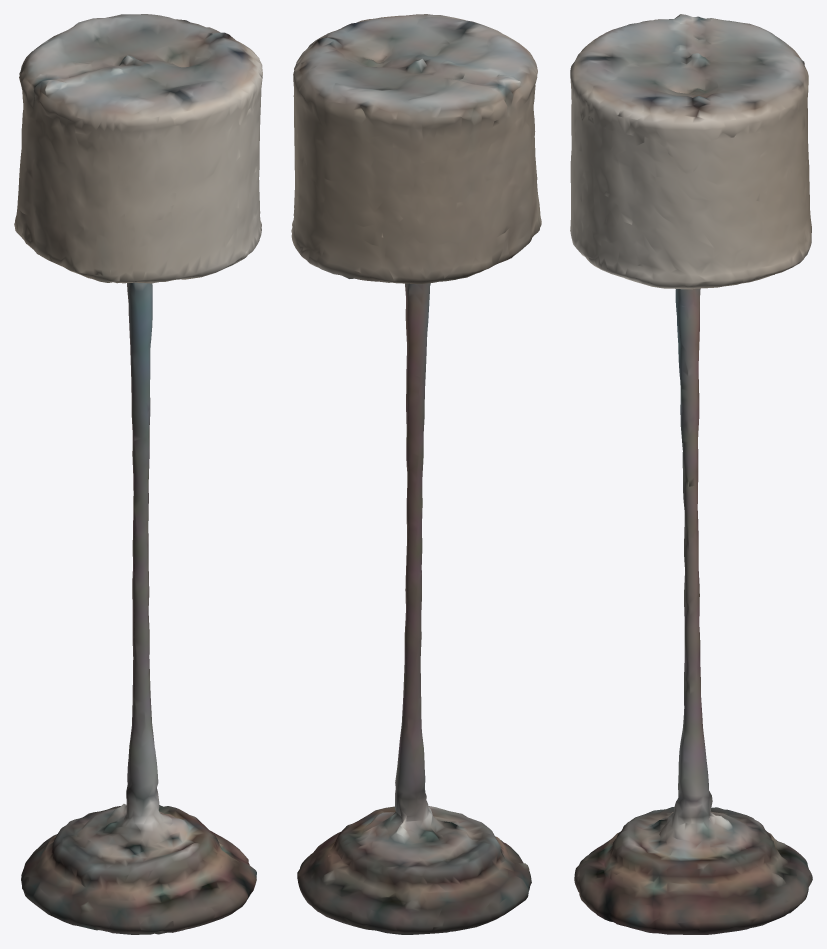
The picture shows the model from 3 angles, left to right: view 1: azimuth 30°, elevation 25°; view 2: azimuth 150°, elevation 25°; view 3: azimuth 270°, elevation 25°; orthographic projection.
Parts seen in each view (by area): view 1: geometry_0; view 2: geometry_0; view 3: geometry_0.
Part boxes in pixels (bbox=[...]): geometry_0: bbox=[14, 14, 262, 934]; geometry_0: bbox=[291, 14, 541, 934]; geometry_0: bbox=[570, 14, 812, 934].
Size of the model in its own units: 0.4246 by 1.6 by 0.4191.
